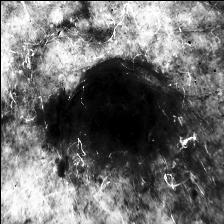Potentially Malignant Skin Tumors: (44, 63, 182, 189)
